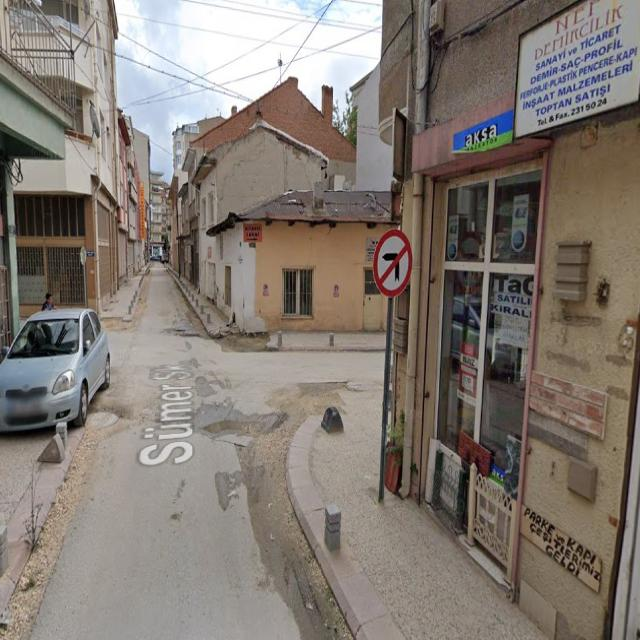soladonulmez: (373, 230, 413, 296)
